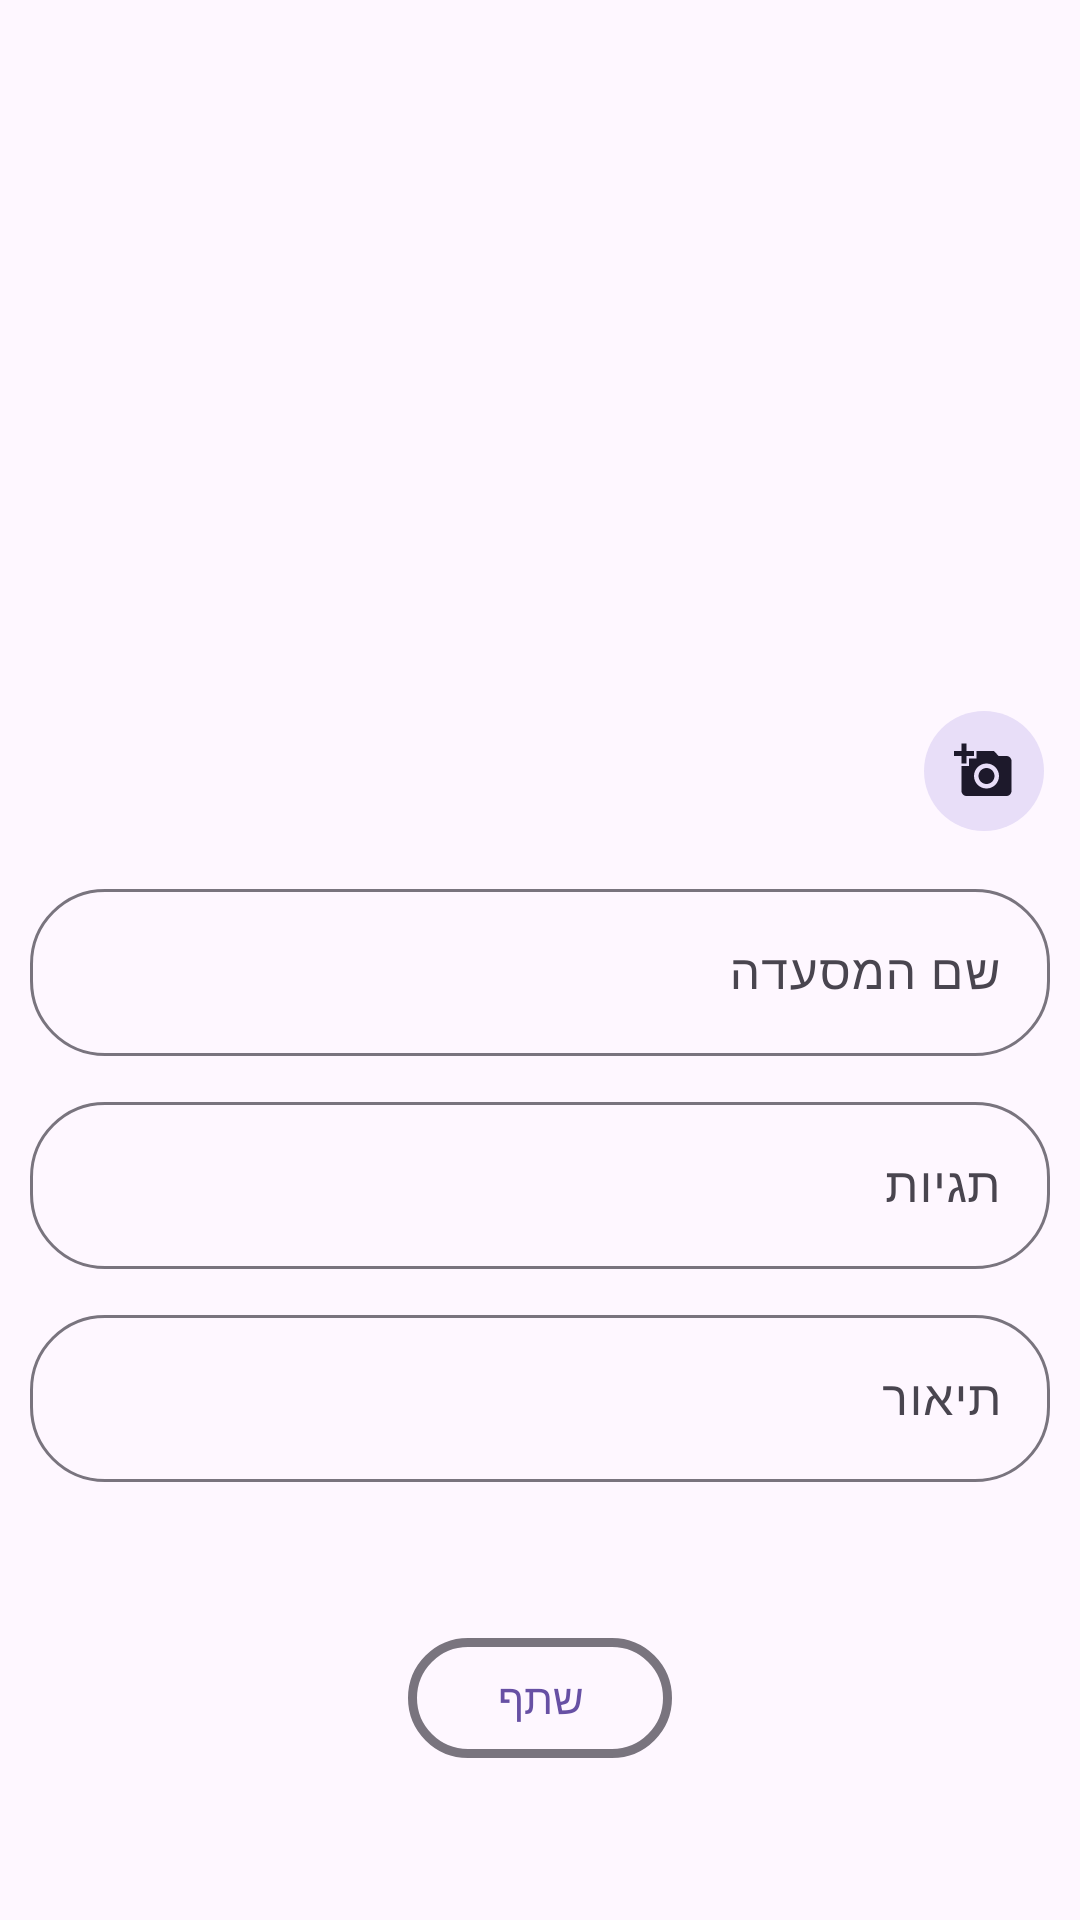

Icon bounding boxes for this 1080px×1920px phone screenshot, format bbox=[x1, y1, x2, y2]:
add photo: bbox=[924, 711, 1044, 831]
